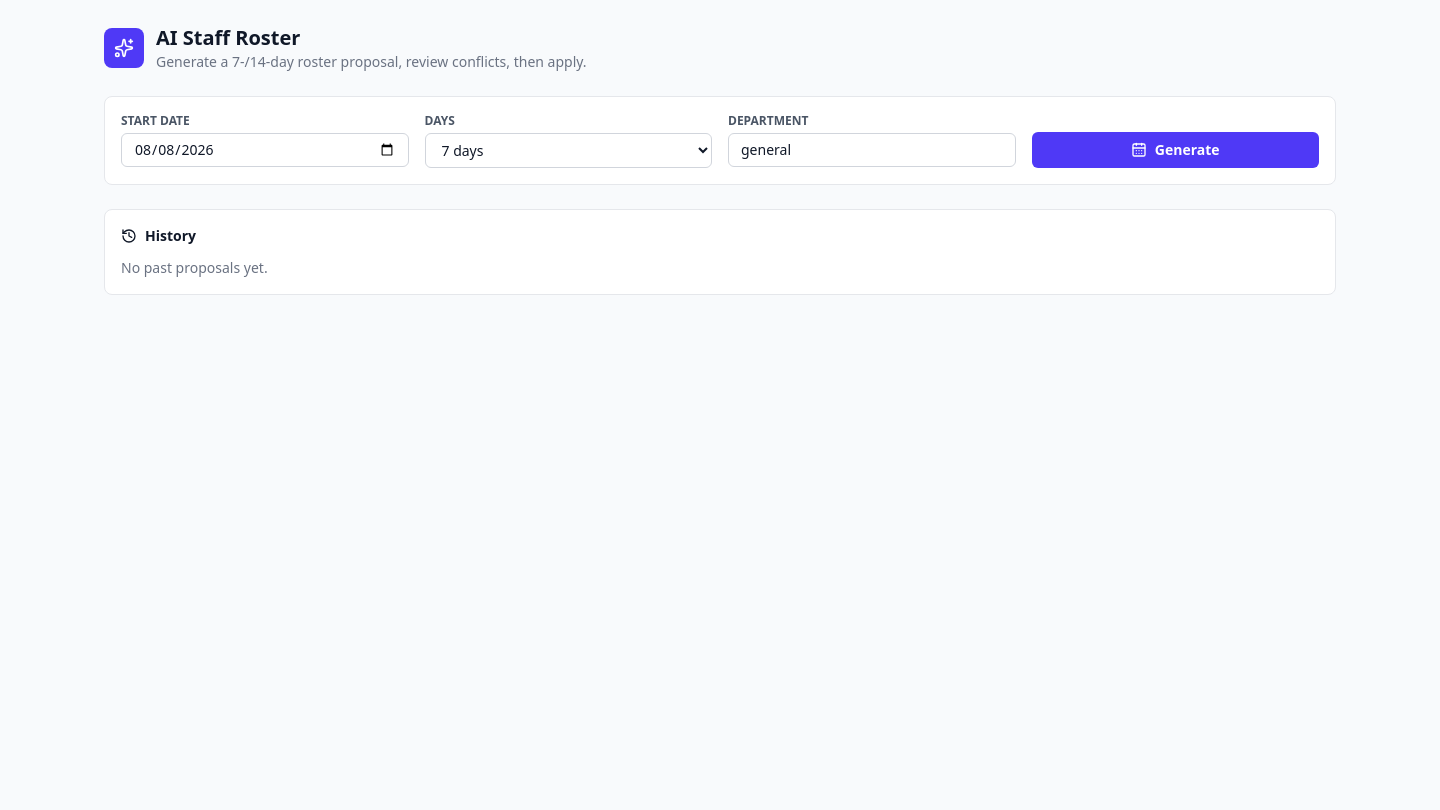
AI Staff Roster dashboard page › issues POST /ai/roster/propose with the form values and renders the proposal grid + warnings + violations
Step 1. Click the button "Generate" → (1175, 150), box [1032,132,1319,168]
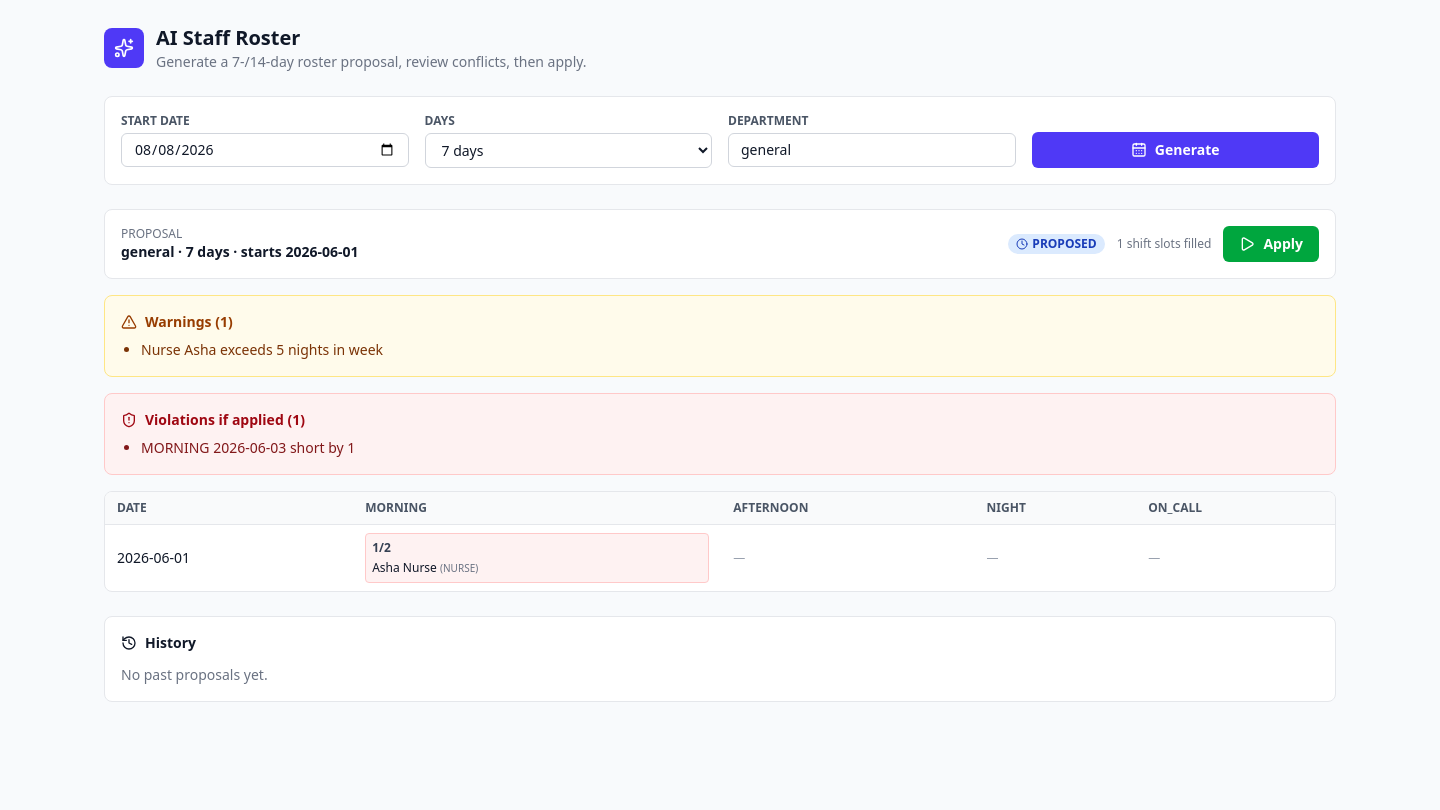
Now the text "general · 7 days · starts 2026-06-01" is shown, box [121,242,358,262]
Now the list item "Nurse Asha exceeds 5 nights in week" is shown, box [141,340,383,359]
Now the text "Warnings (1)" is shown, box [121,312,233,331]
